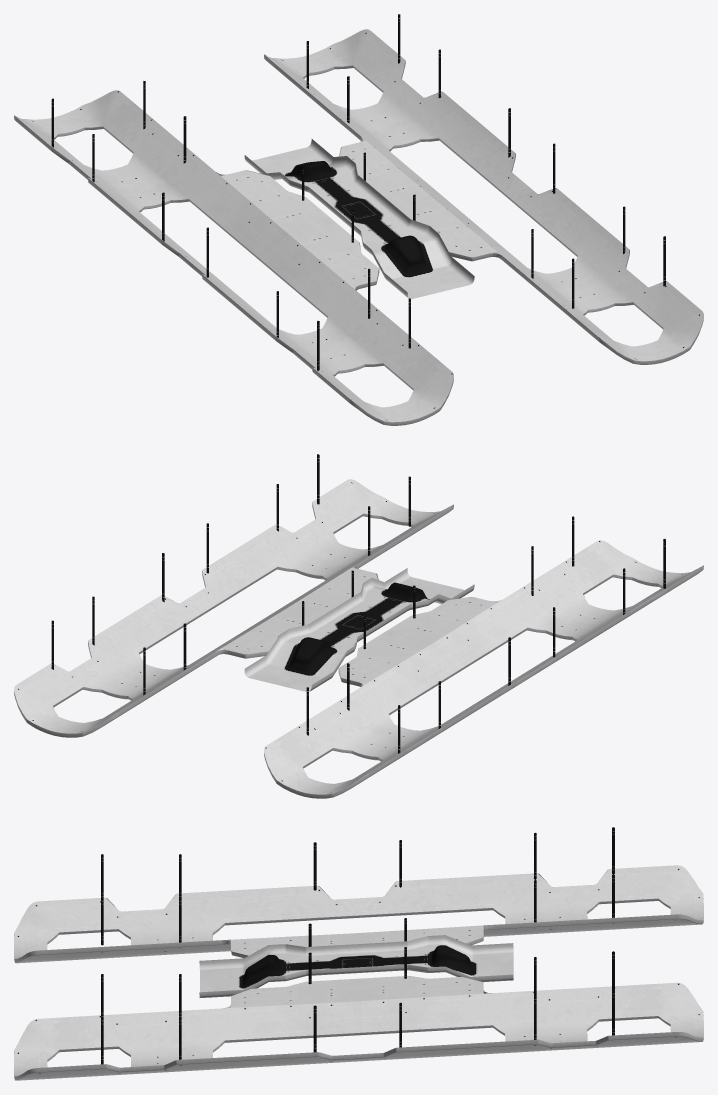
The model's file is HallwayLeanCeiling.fbx.
The picture shows the model from 3 angles, top to bottom: view 1: azimuth 30°, elevation 25°; view 2: azimuth 150°, elevation 25°; view 3: azimuth 270°, elevation 25°; orthographic projection. The views are drawn at different scales.
Parts seen in each view (by area): view 1: HallwayLeanCeiling001; view 2: HallwayLeanCeiling001; view 3: HallwayLeanCeiling001.
Part boxes in pixels (box(x1,y1,x2,y2)): HallwayLeanCeiling001: box(14, 14, 703, 425); HallwayLeanCeiling001: box(14, 454, 703, 798); HallwayLeanCeiling001: box(14, 827, 703, 1080).
Bounding box in the file's own units: 431 × 127 × 754.
